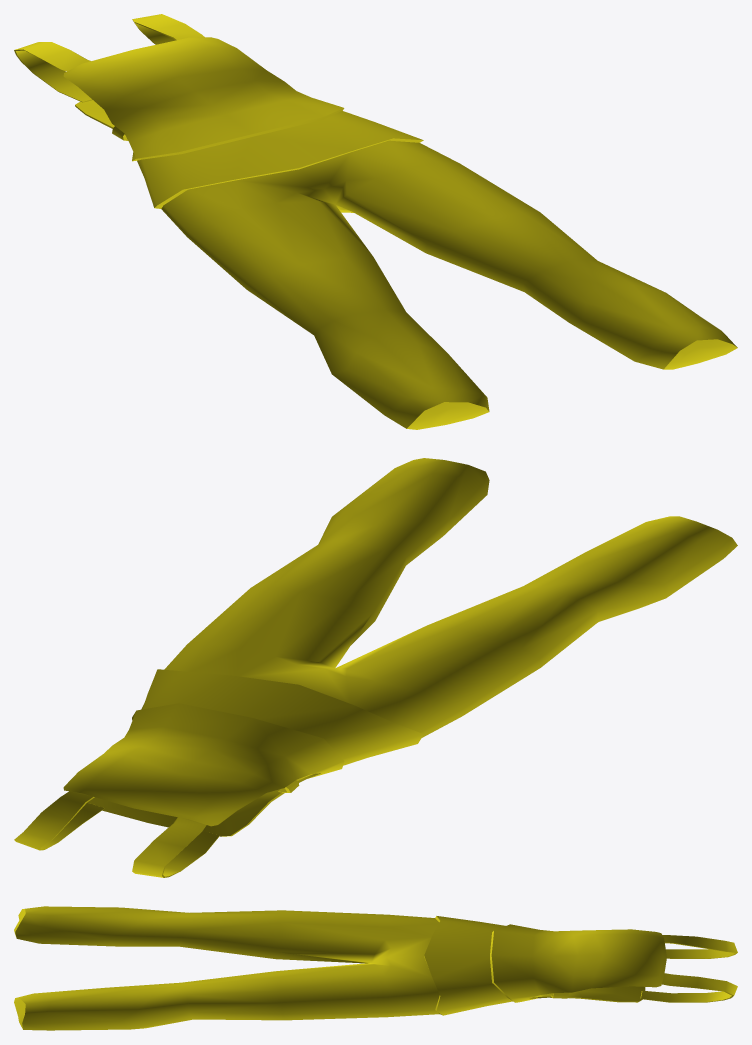
File: W_Suit_Fisher.FBX
The picture shows the model from 3 angles, top to bottom: view 1: azimuth 30°, elevation 25°; view 2: azimuth 150°, elevation 25°; view 3: azimuth 270°, elevation 25°; orthographic projection. The views are drawn at different scales.
Parts seen in each view (by area): view 1: Object004; view 2: Object004; view 3: Object004.
Boxes of the visible parts, <box> form: Object004: <box>14,14,737,429</box>; Object004: <box>14,458,737,877</box>; Object004: <box>14,906,737,1030</box>.
Bounding box in the file's own units: 29.51 × 2.69 × 74.31.
